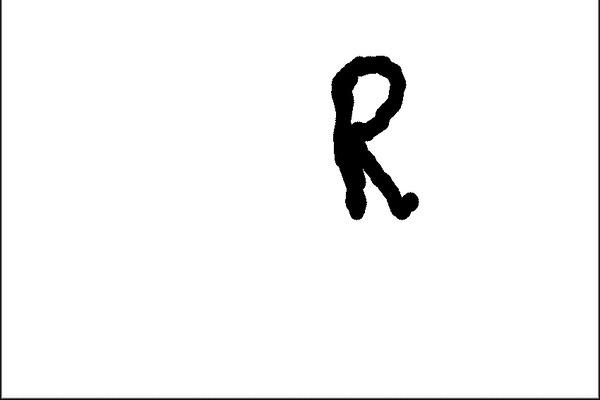R: (314, 42, 436, 233)
